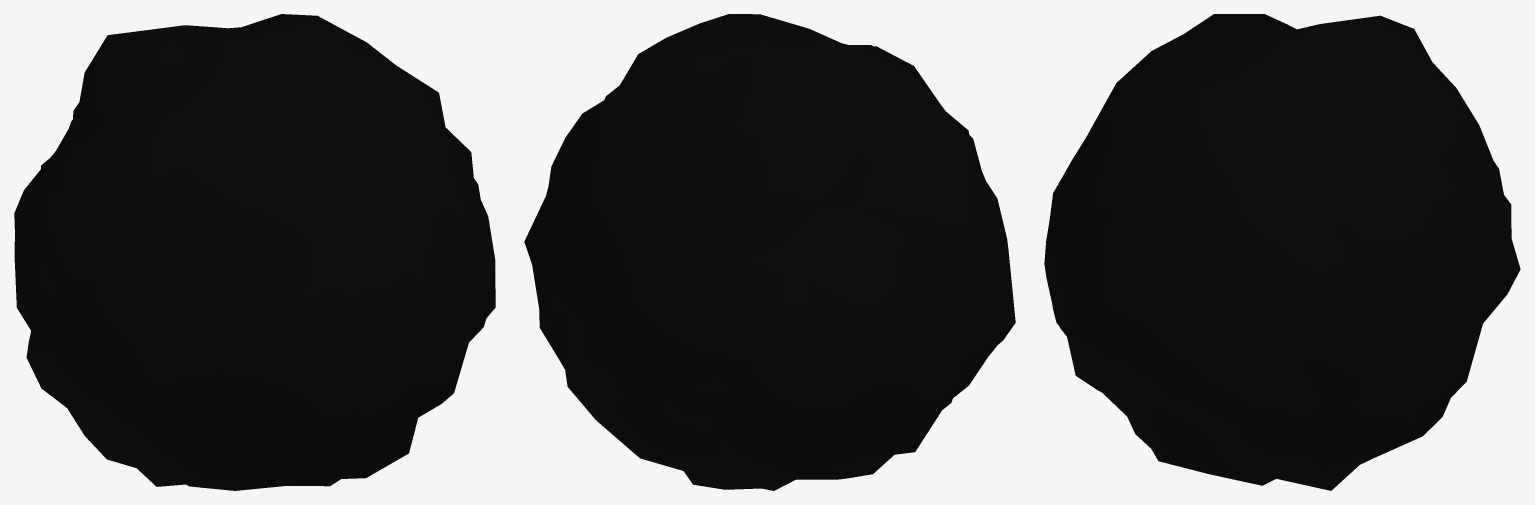
3 views of the same model, side by side, from view 1: azimuth 30°, elevation 25°; view 2: azimuth 150°, elevation 25°; view 3: azimuth 270°, elevation 25° (orthographic). The views are drawn at different scales.
Visible parts, largest first — view 1: Icosphere.016; view 2: Icosphere.016; view 3: Icosphere.016.
Part boxes in pixels (bbox=[...]): Icosphere.016: bbox=[14, 14, 495, 490]; Icosphere.016: bbox=[524, 14, 1015, 490]; Icosphere.016: bbox=[1044, 14, 1520, 490].
Bounding box in the file's own units: 1.93 × 1.91 × 1.92.
Materials: 1 (1 with a texture image).
